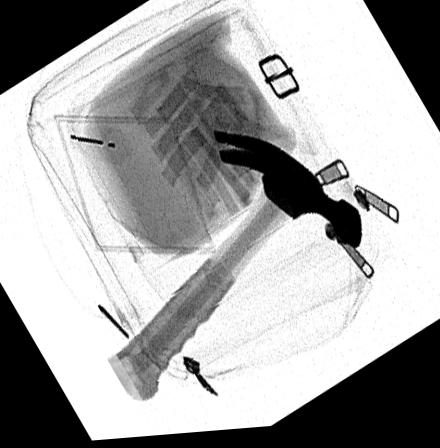Hammer: (105, 133, 361, 405)
